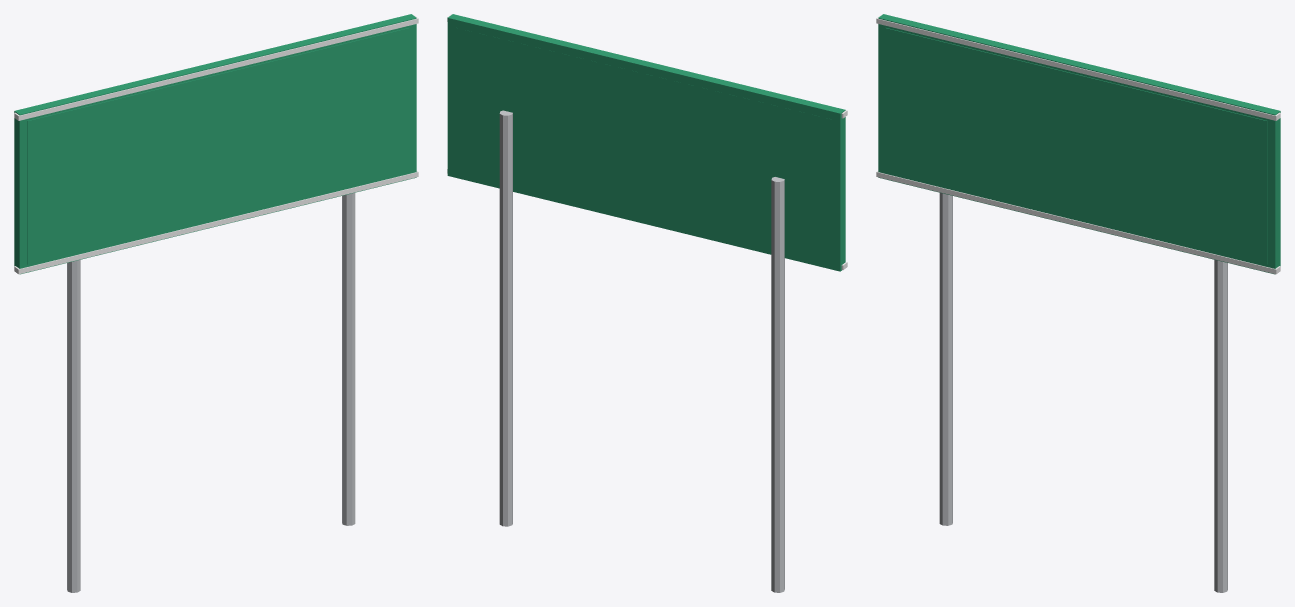
The model's file is sign_route.glb.
3 renders of one model, left to right at view 1: azimuth 30°, elevation 25°; view 2: azimuth 150°, elevation 25°; view 3: azimuth 330°, elevation 25°, orthographic.
Parts seen in each view (by area): view 1: sign_route; view 2: sign_route; view 3: sign_route.
Part boxes in pixels (x1,y1,x2,y2): sign_route: (14,14,418,592); sign_route: (447,14,847,592); sign_route: (876,14,1280,592).
Bounding box in the file's own units: 2.62 × 3.1 × 0.125.
